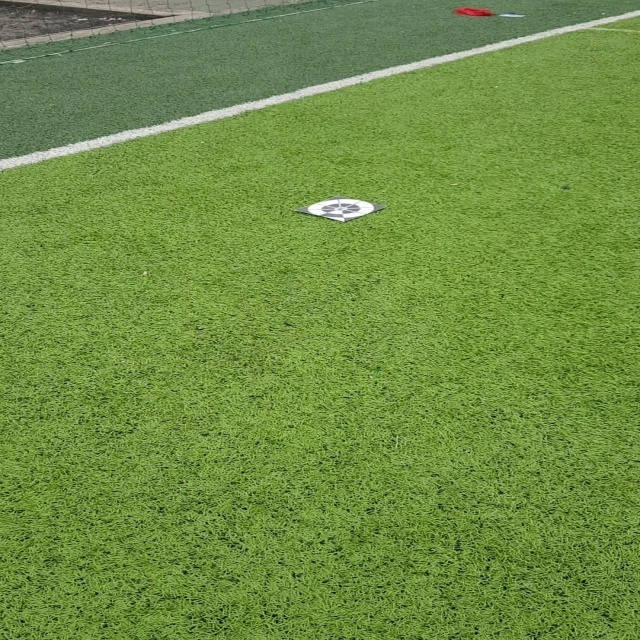landing-zone: (293, 192, 390, 223)
